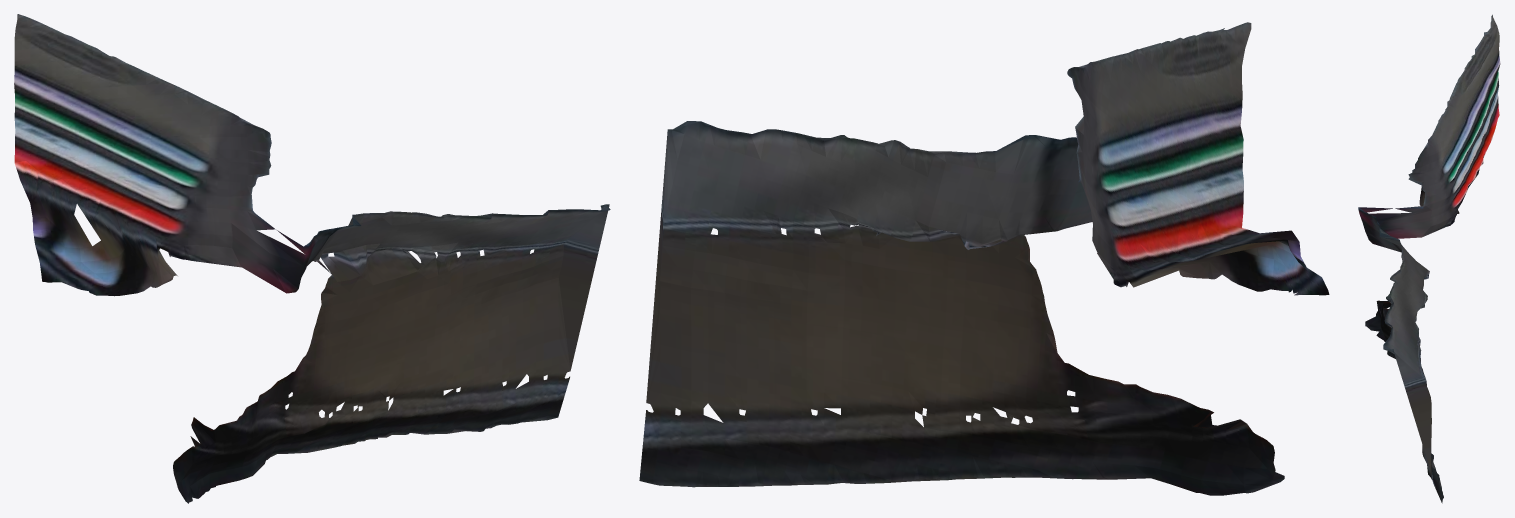
File: observed-surface.glb
3 renders of one model, left to right at view 1: azimuth 30°, elevation 25°; view 2: azimuth 150°, elevation 25°; view 3: azimuth 270°, elevation 25°, orthographic. The views are drawn at different scales.
Parts seen in each view (by area): view 1: geometry_0; view 2: geometry_0; view 3: geometry_0.
Boxes of the visible parts, <box> form: geometry_0: <box>14,14,610,503</box>; geometry_0: <box>639,22,1329,495</box>; geometry_0: <box>1358,14,1500,503</box>.
Size of the model in its own units: 0.5422 by 0.4824 by 0.1891.
Materials: 1 (1 with a texture image).
